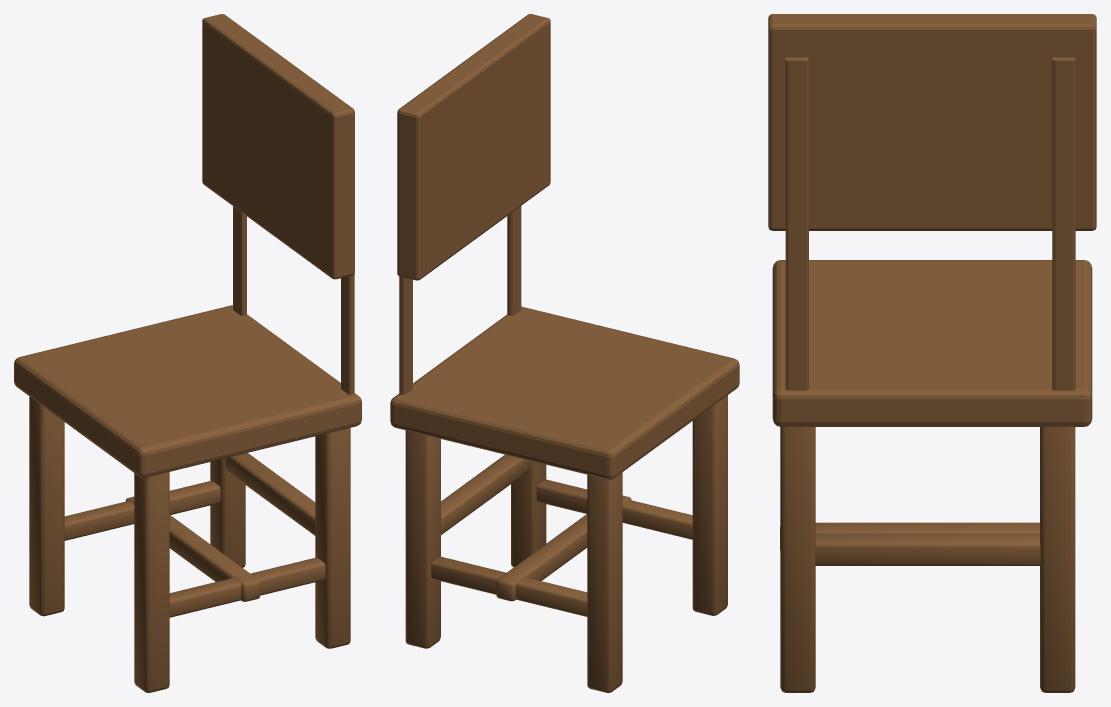
Rendered from Chair.fbx.
The picture shows the model from 3 angles, left to right: view 1: azimuth 30°, elevation 25°; view 2: azimuth 150°, elevation 25°; view 3: azimuth 270°, elevation 25°; orthographic projection. The views are drawn at different scales.
Visible parts, largest first — view 1: Chair; view 2: Chair; view 3: Chair.
Boxes of the visible parts, x1=… form: Chair: x1=14, y1=14, x2=361, y2=692; Chair: x1=390, y1=14, x2=739, y2=692; Chair: x1=768, y1=14, x2=1096, y2=692.
Bounding box in the file's own units: 281 × 648 × 289.
